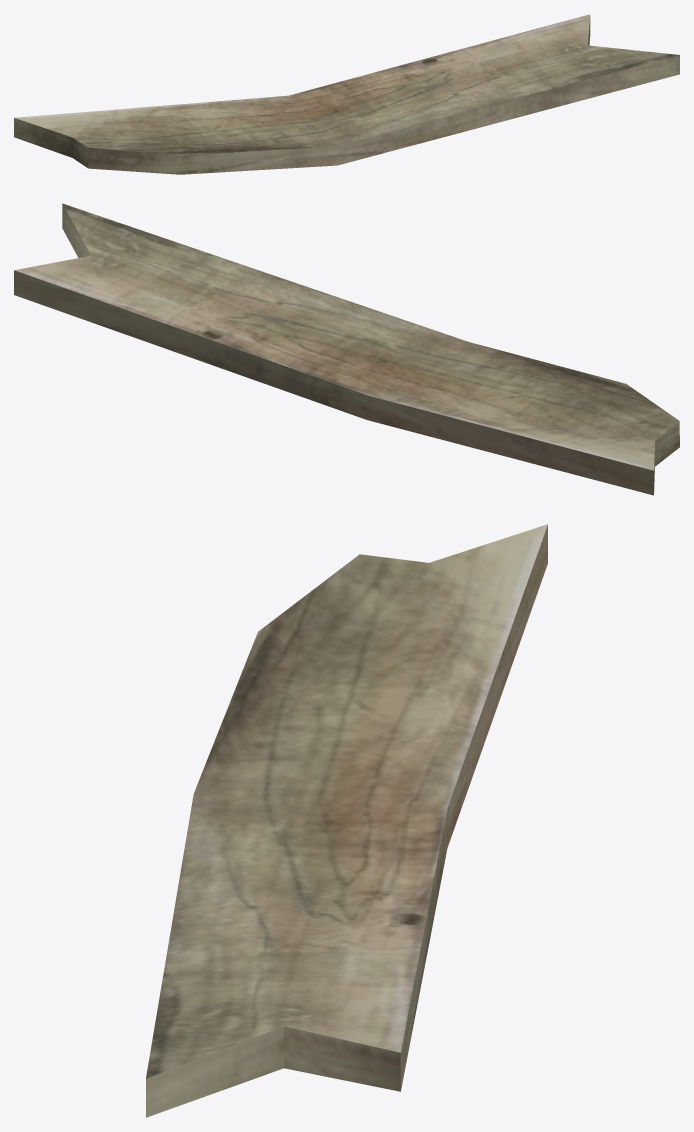
File: pir_m_prp_spn_debris_boardA.fbx
3 renders of one model, top to bottom at view 1: azimuth 30°, elevation 25°; view 2: azimuth 150°, elevation 25°; view 3: azimuth 270°, elevation 25°, orthographic. The views are drawn at different scales.
Visible parts, largest first — view 1: debris_boardA; view 2: debris_boardA; view 3: debris_boardA.
Part boxes in pixels (box(x1,y1,x2,y2)): debris_boardA: box(14, 14, 679, 174); debris_boardA: box(14, 203, 679, 495); debris_boardA: box(146, 524, 547, 1117).
Size of the model in its own units: 1084 by 73.63 by 334.
Materials: 1 (1 with a texture image).
